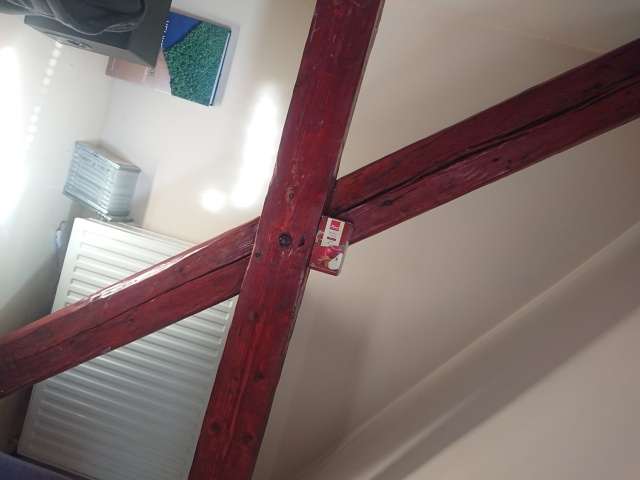Franck Apple Cinnamon Tea 60g: (305, 212, 353, 277)
